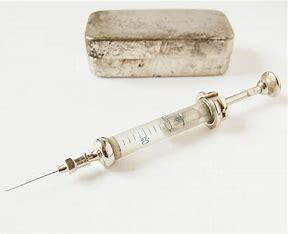Syringe: (4, 66, 284, 194)
